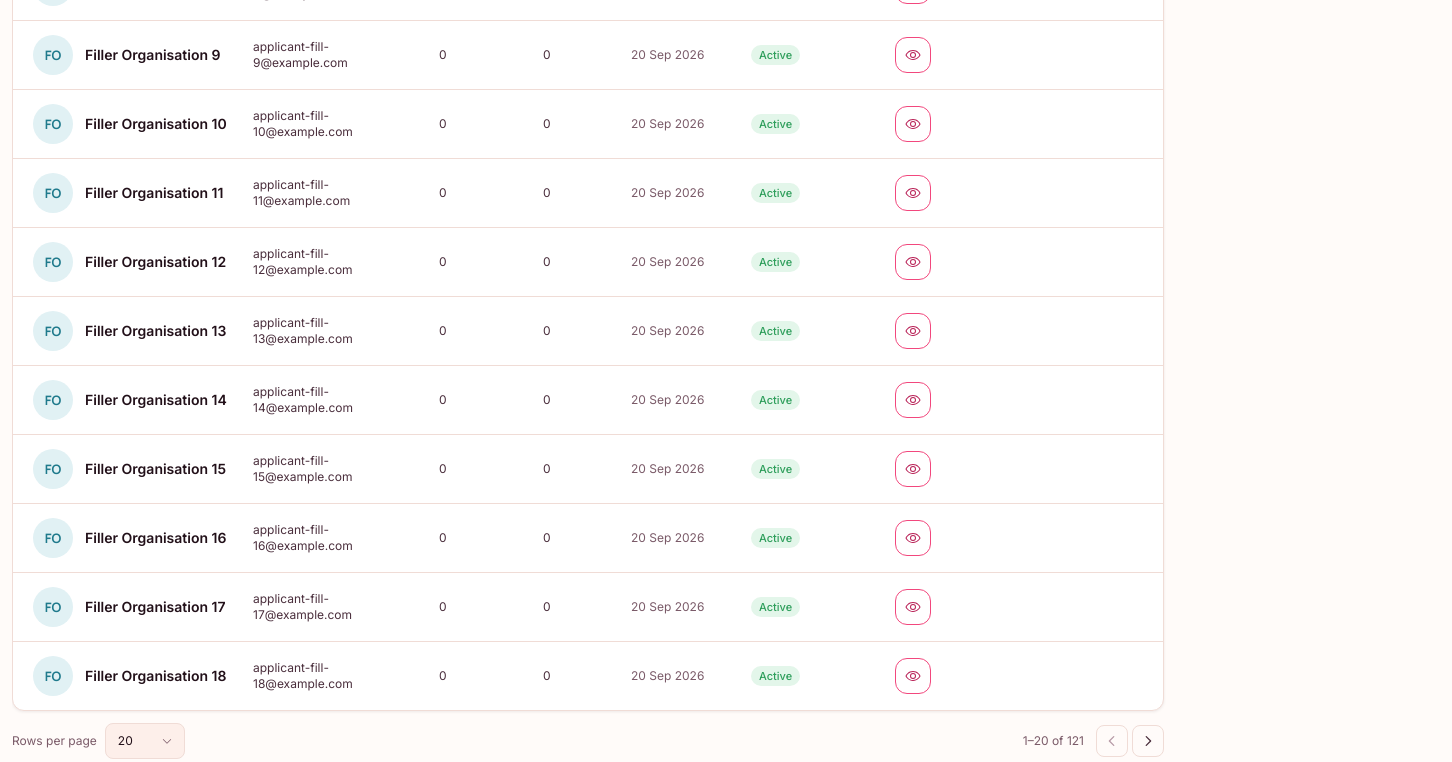
it: NgosPage › tabs and search › pages a long tab and returns to page 1 when the tab changes
(page scrolled)
Expected: the text "1–20 of 121" is shown, [1023, 733, 1084, 749]
Click the button named "Next page" at coordinates (1148, 741), box [1132, 725, 1164, 757]
(page scrolled)
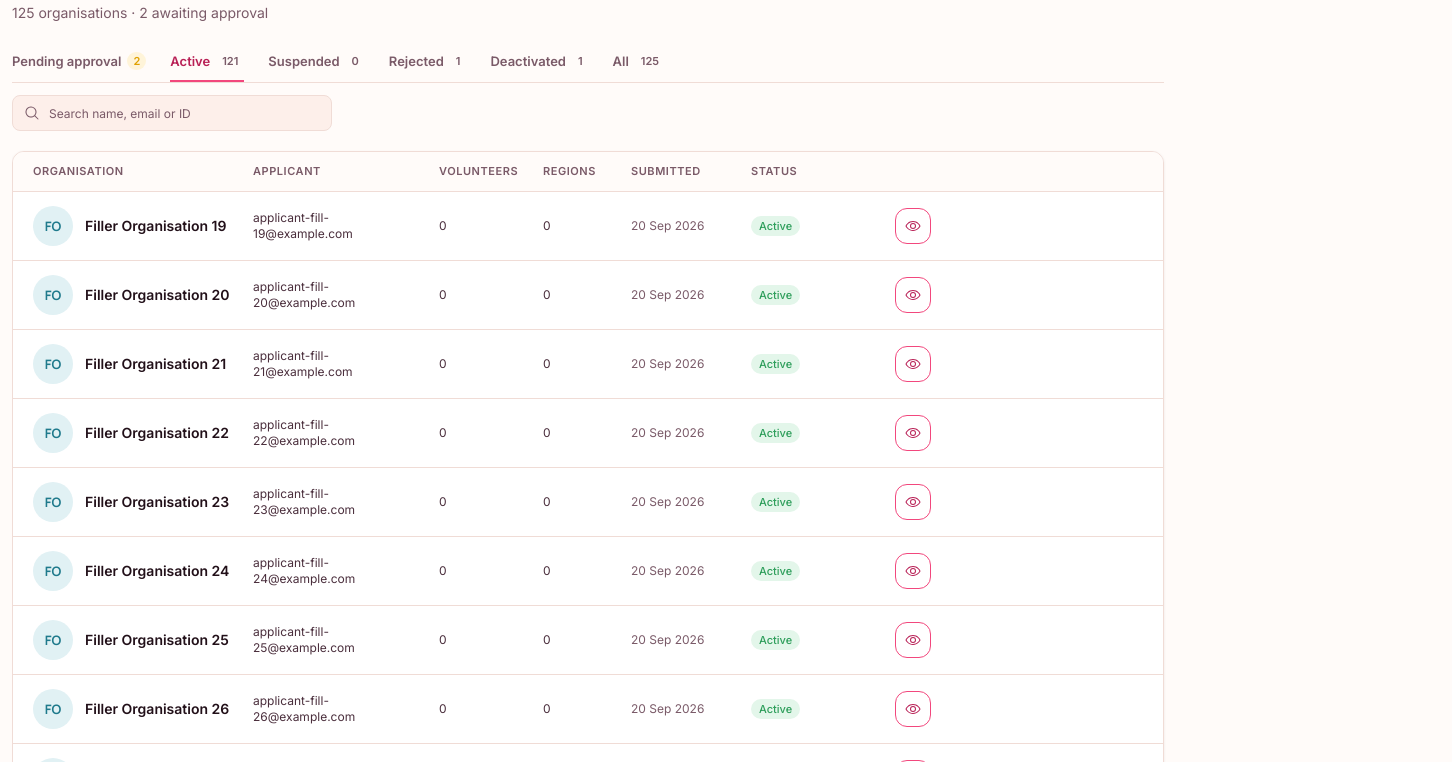
Click the tab "Rejected 1" at coordinates (428, 62), box [389, 42, 466, 82]
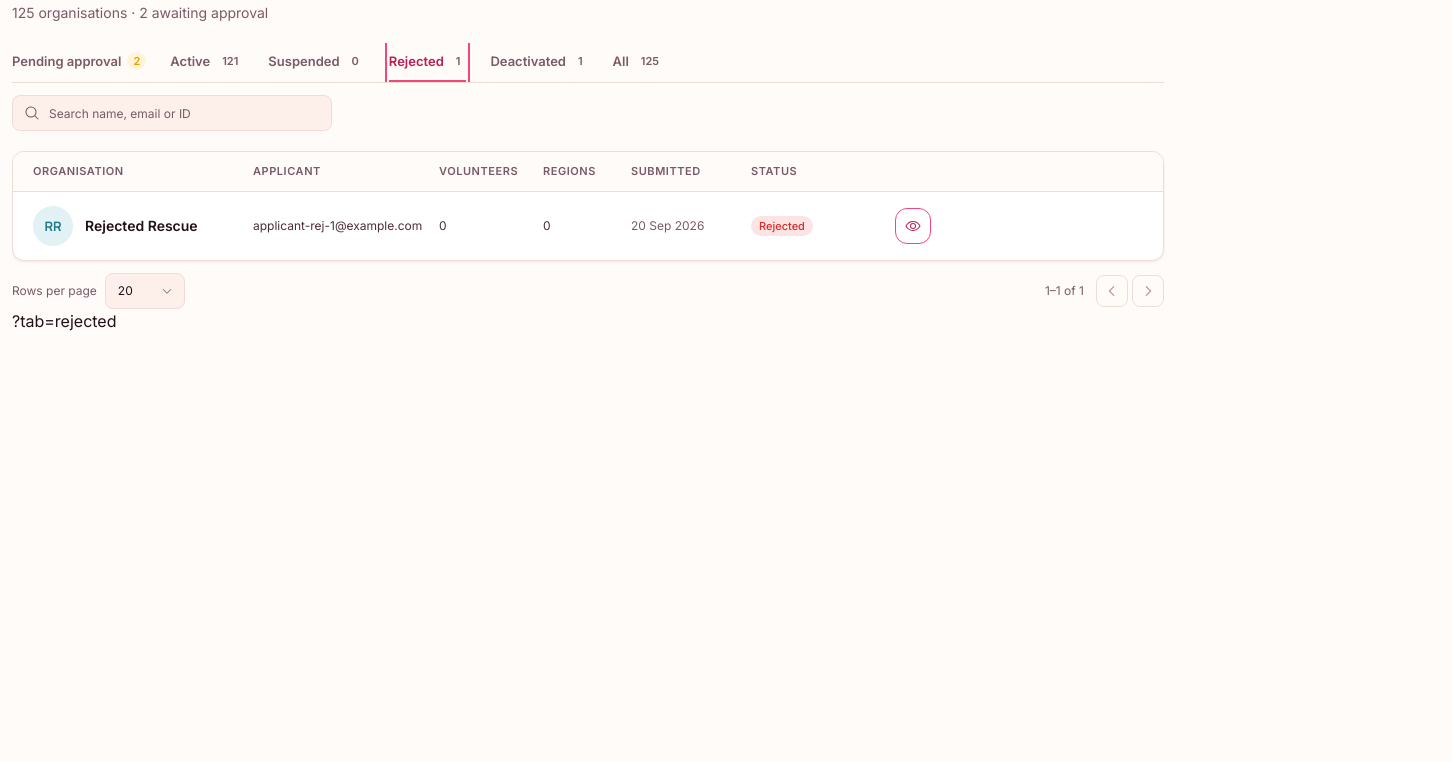
Expected: the text "1–1 of 1" is shown, [1045, 283, 1084, 299]
